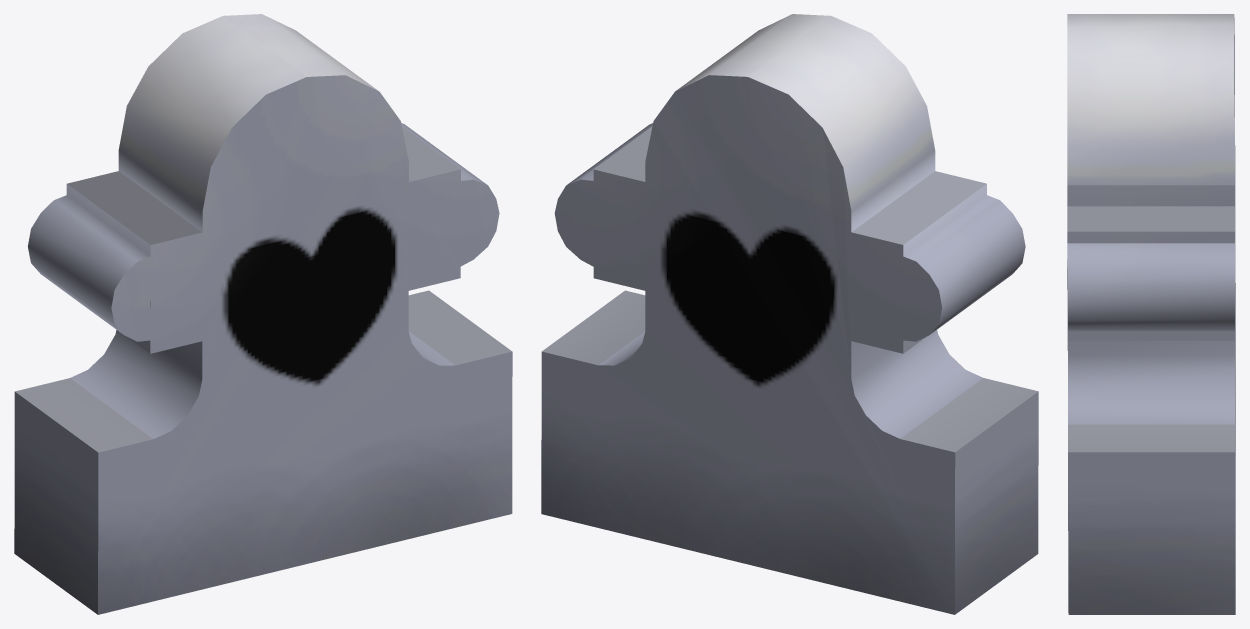
The model's file is grave2.obj.
3 renders of one model, left to right at view 1: azimuth 30°, elevation 25°; view 2: azimuth 150°, elevation 25°; view 3: azimuth 270°, elevation 25°, orthographic.
Parts seen in each view (by area): view 1: grave2_comp:grave2_obj; view 2: grave2_comp:grave2_obj; view 3: grave2_comp:grave2_obj.
Part boxes in pixels (x1,y1,x2,y2): grave2_comp:grave2_obj: [14, 14, 512, 614]; grave2_comp:grave2_obj: [541, 14, 1038, 614]; grave2_comp:grave2_obj: [1067, 14, 1235, 614].
Size of the model in its own units: 26.66 by 30 by 9.39.
